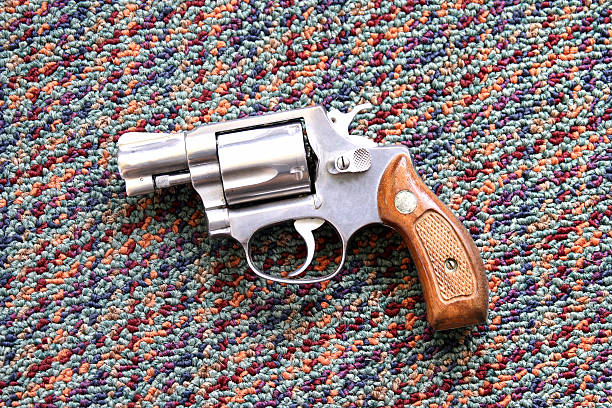pistol: (113, 104, 494, 337)
